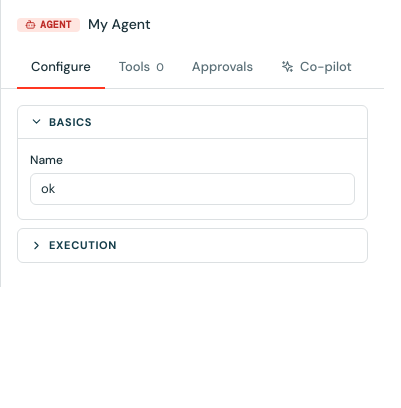
Test: ConfigPanel grouped inspector › force-opens an advanced group and shows an error badge when a field is invalid
The image size is (401, 408).
Note: Edit the visible Basics field to trigger validation over the whole config.
Replace the text in the field labelled "Name" with "still-ok" at (192, 189), box top-left (30, 173), bottom-right (355, 205)
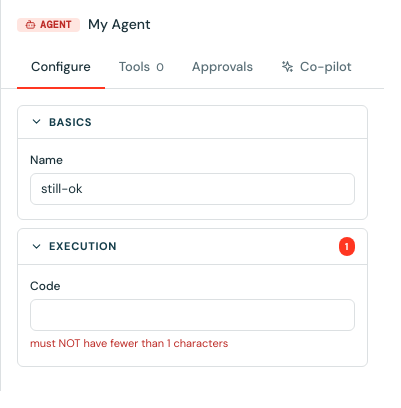
Result: the text named "1 validation error" is shown at top-left (339, 237), bottom-right (355, 256)
